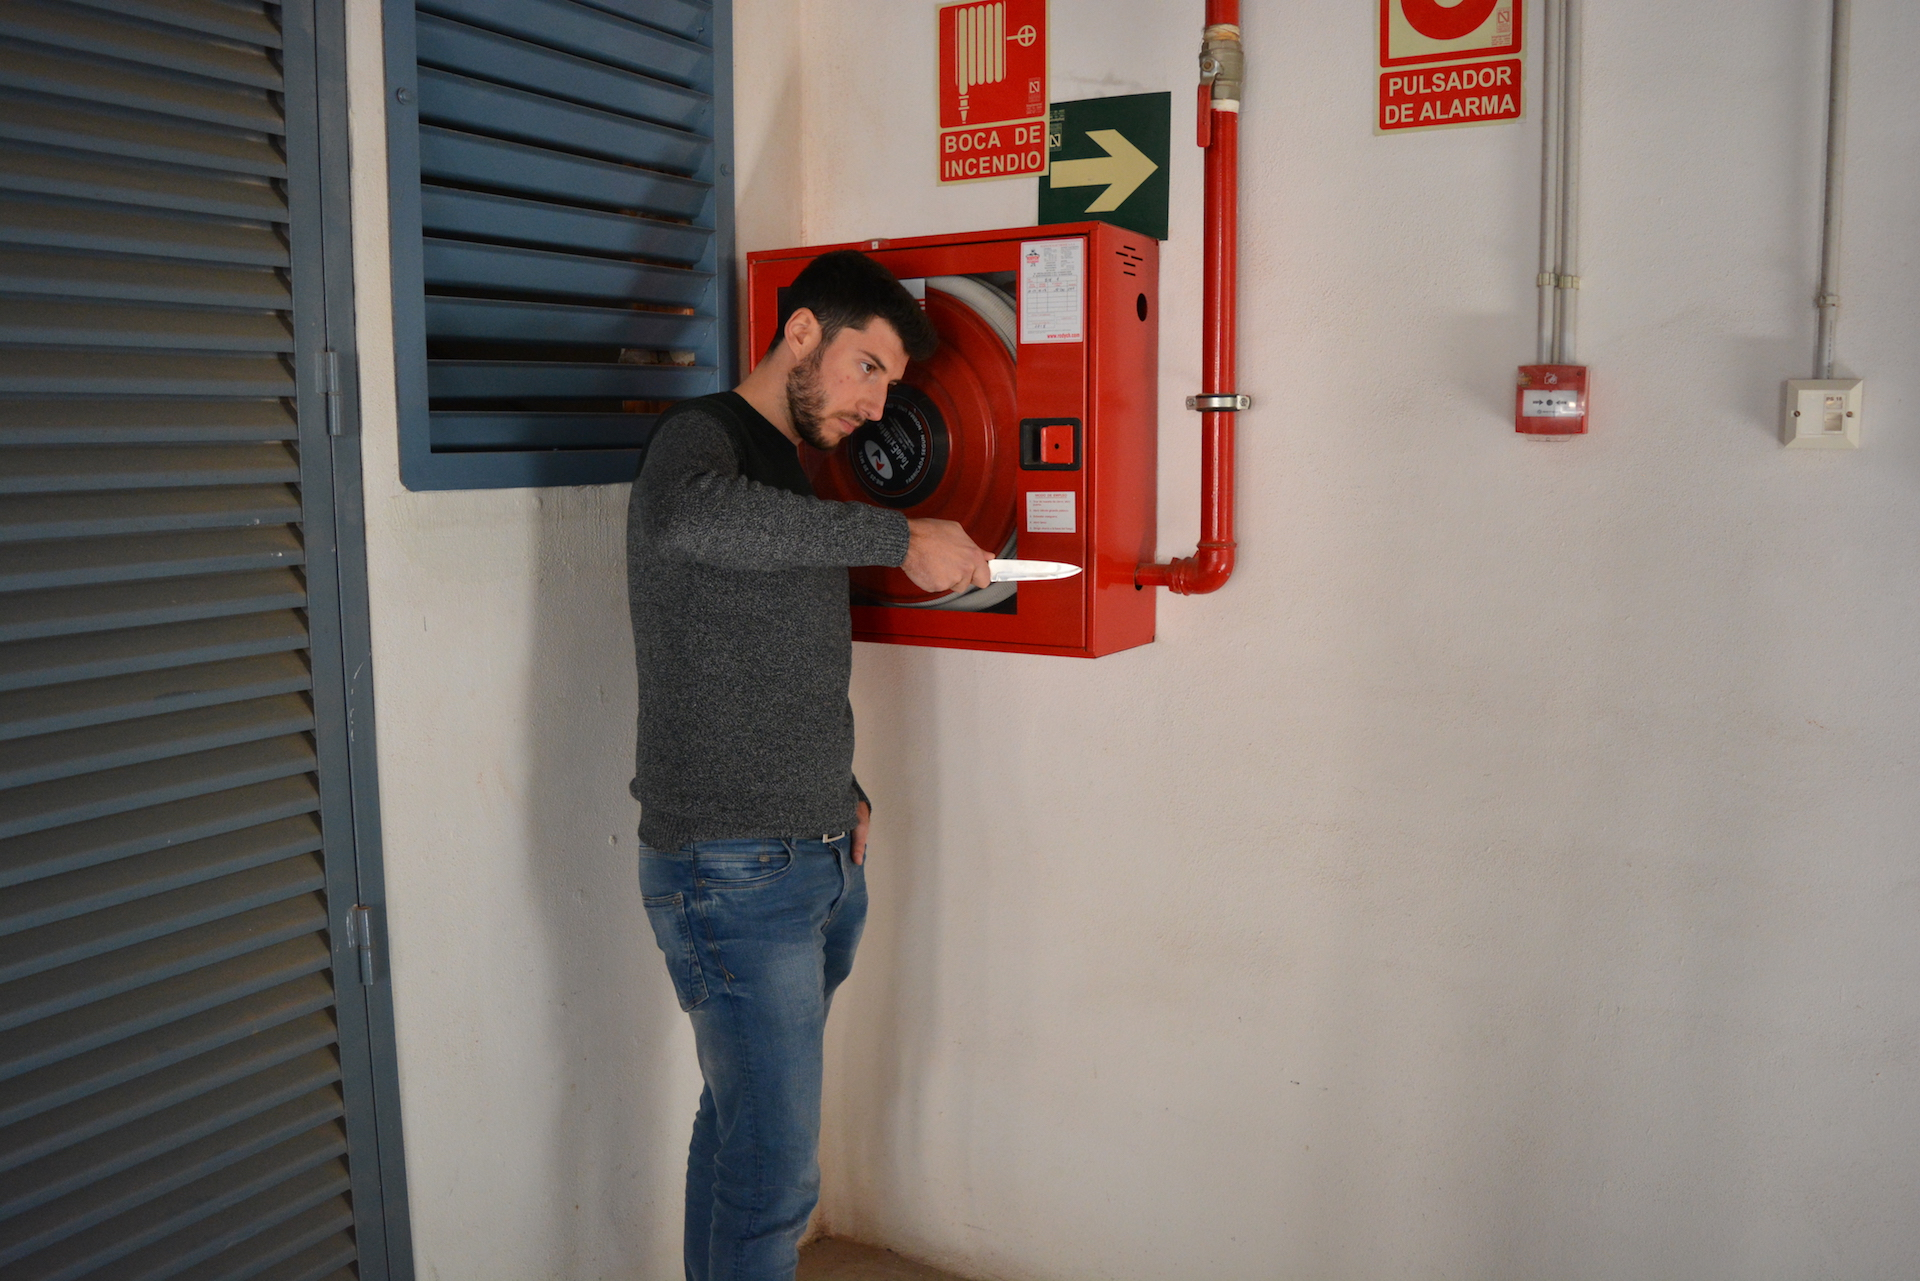knife: (961, 545, 1087, 590)
